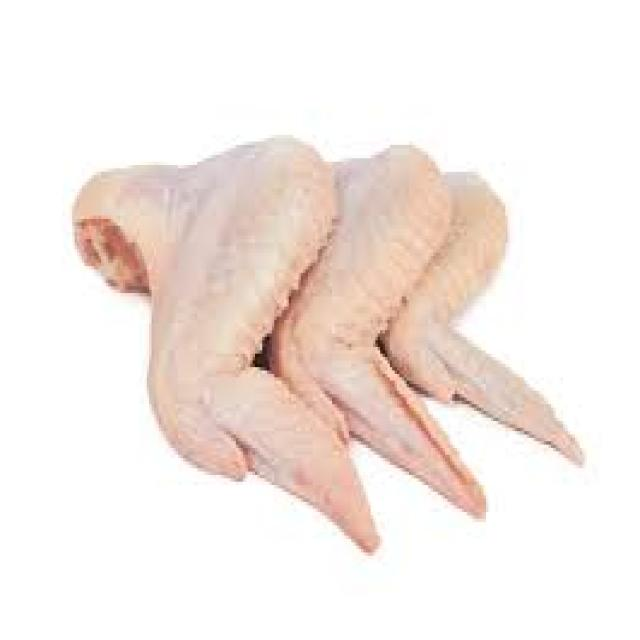Chicken: (66, 131, 588, 561)
